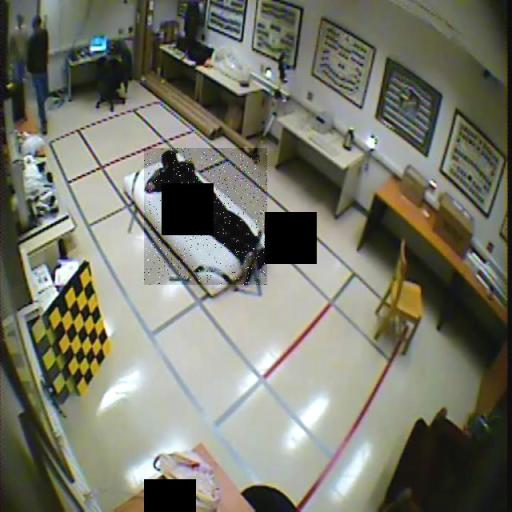Fall: (144, 148, 267, 285)
